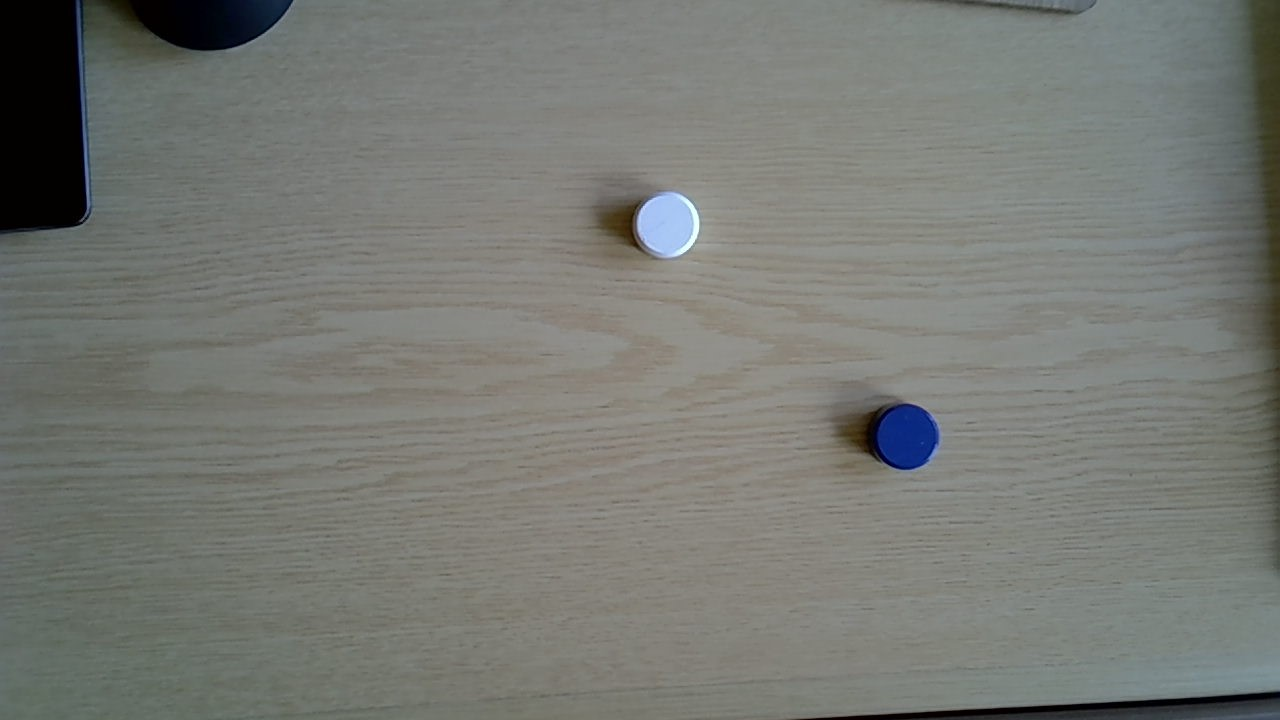WerkStueck: (631, 190, 702, 261), (866, 403, 940, 471)
